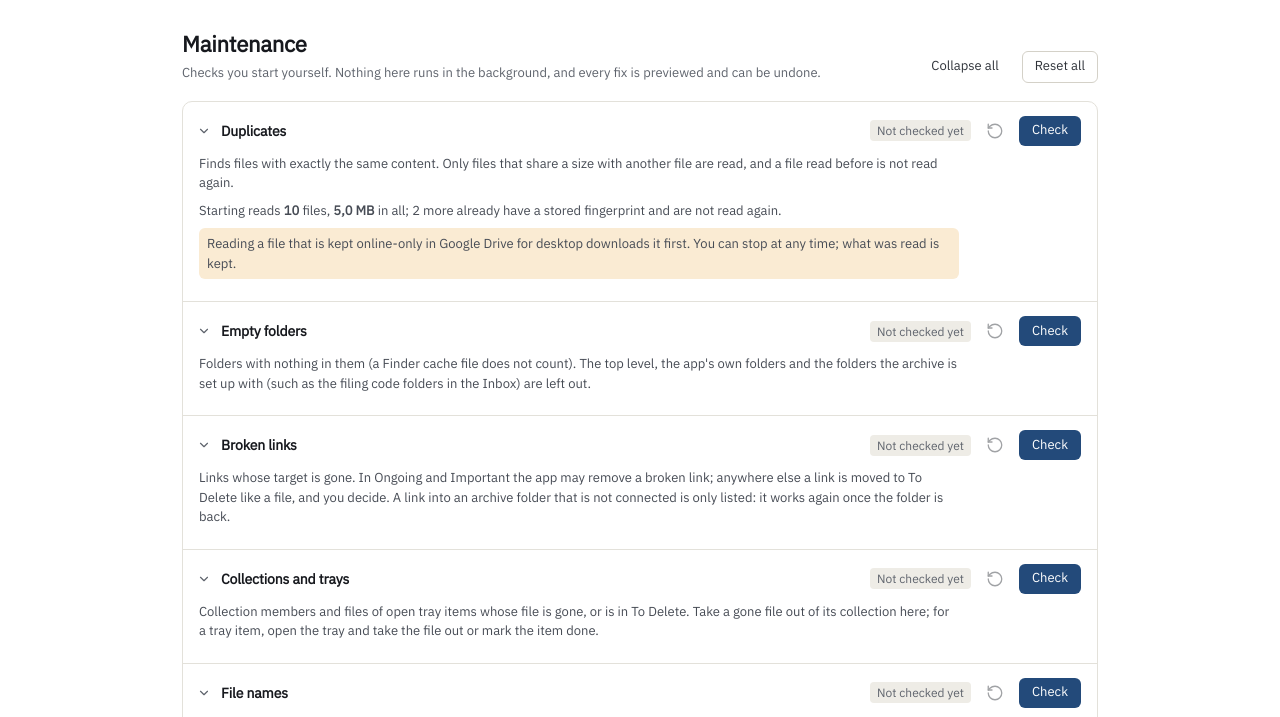
Test: Maintenance screen › shows progress while it runs and Stop ends it
The width and height of the screenshot is (1280, 717).
Step 1. Click the button "Check" in the row of "Duplicates" → coordinates (1050, 131), box x1=1019 y1=116 x2=1081 y2=146
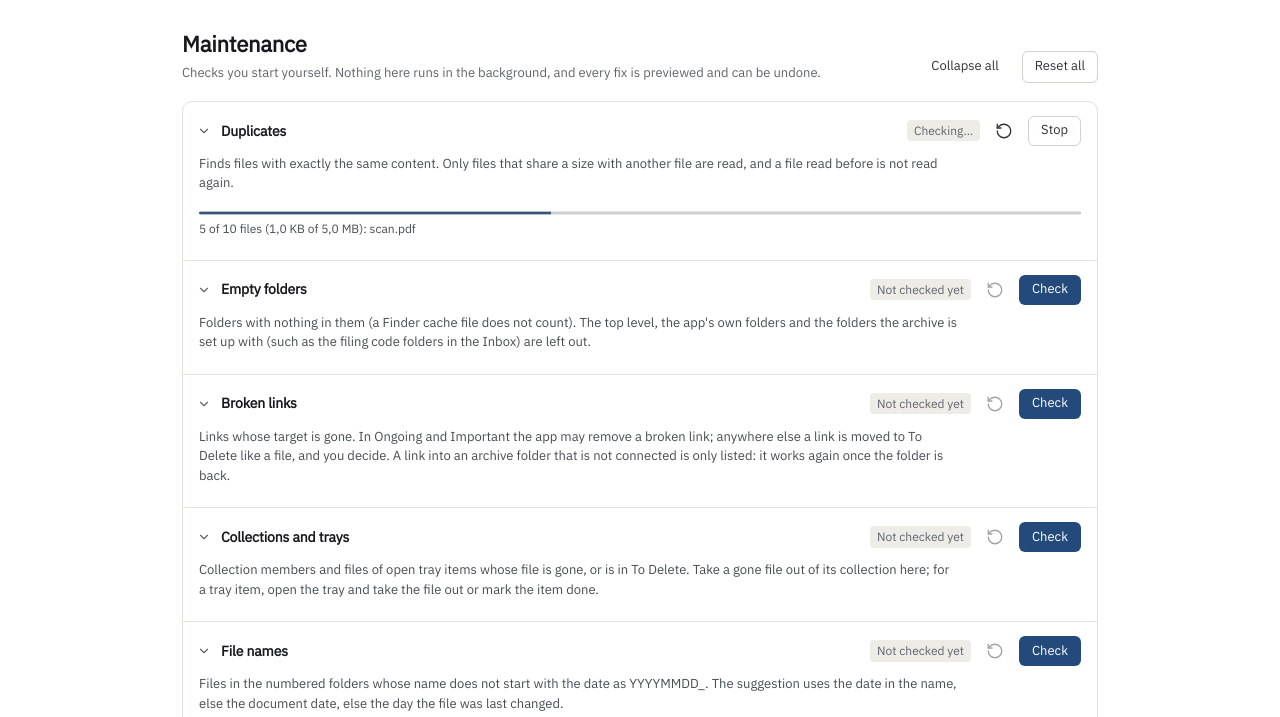
Now the element "Duplicates" shows "5 of 10 files (1,0 KB of 5,0 MB): scan.pdf", box x1=183 y1=102 x2=1097 y2=260
Step 2. Click the button "Stop" → coordinates (1055, 131), box x1=1028 y1=116 x2=1081 y2=146
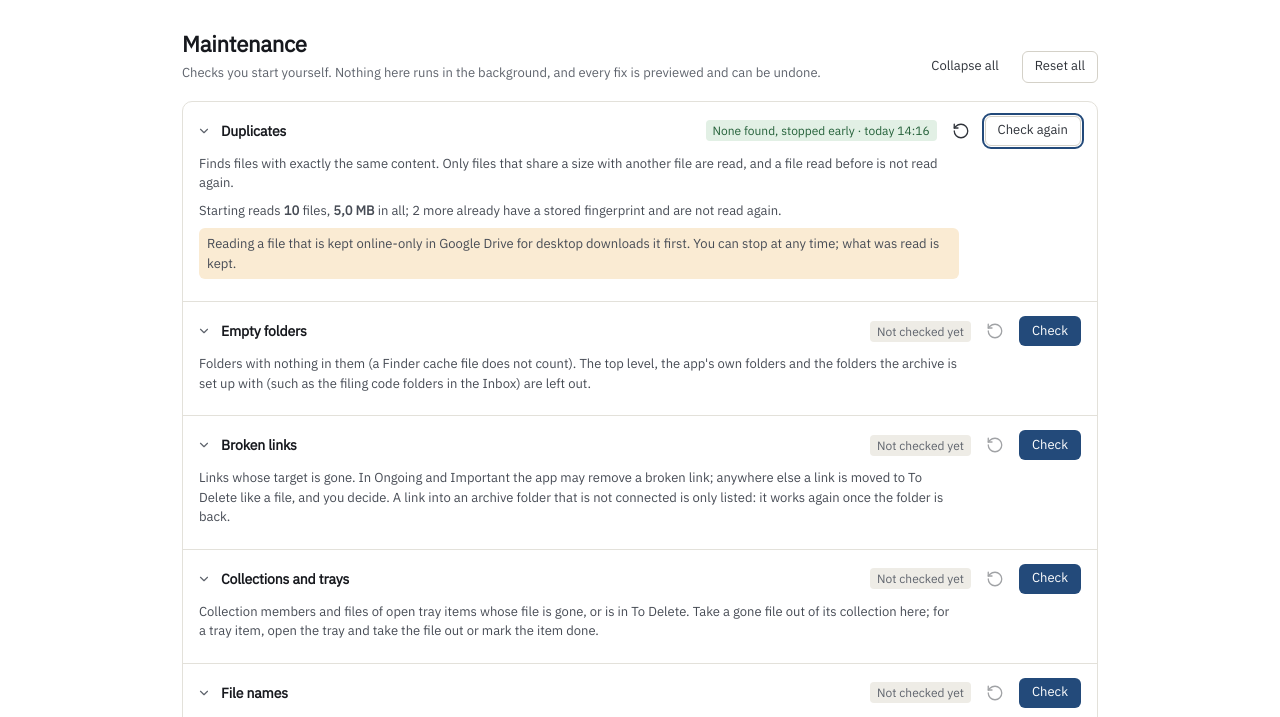
Now the button "Check again" is shown, box x1=985 y1=116 x2=1081 y2=146
